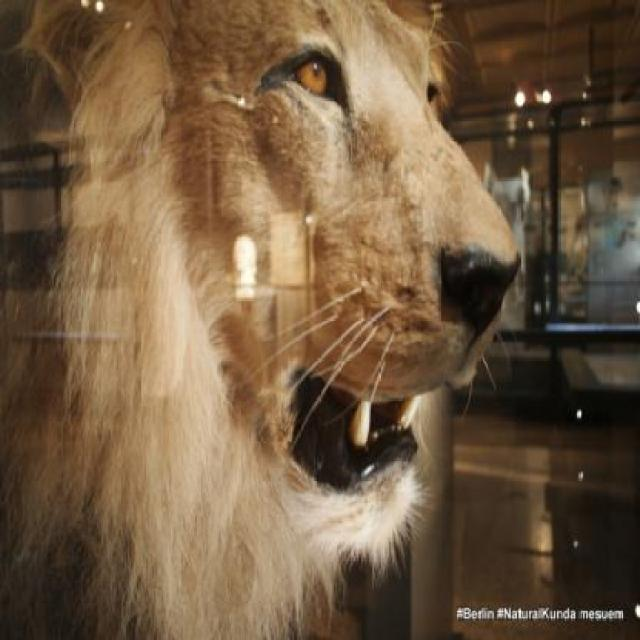Lion: (115, 3, 532, 639)
